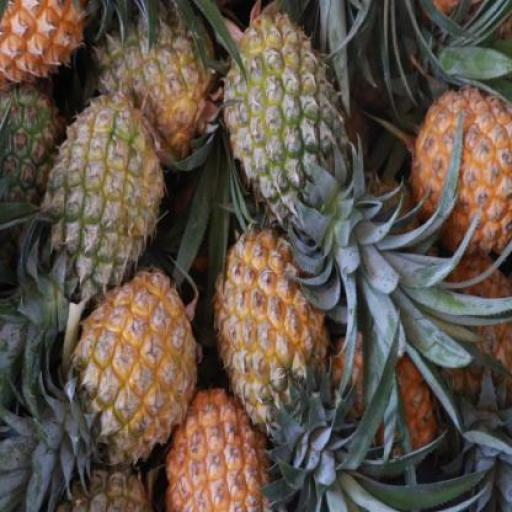------------------------------: (228, 6, 348, 220), (51, 103, 161, 299), (95, 1, 216, 158)
Pineapple - v8 v1: (77, 272, 201, 470), (220, 231, 329, 427), (413, 85, 512, 259), (162, 391, 274, 512)
